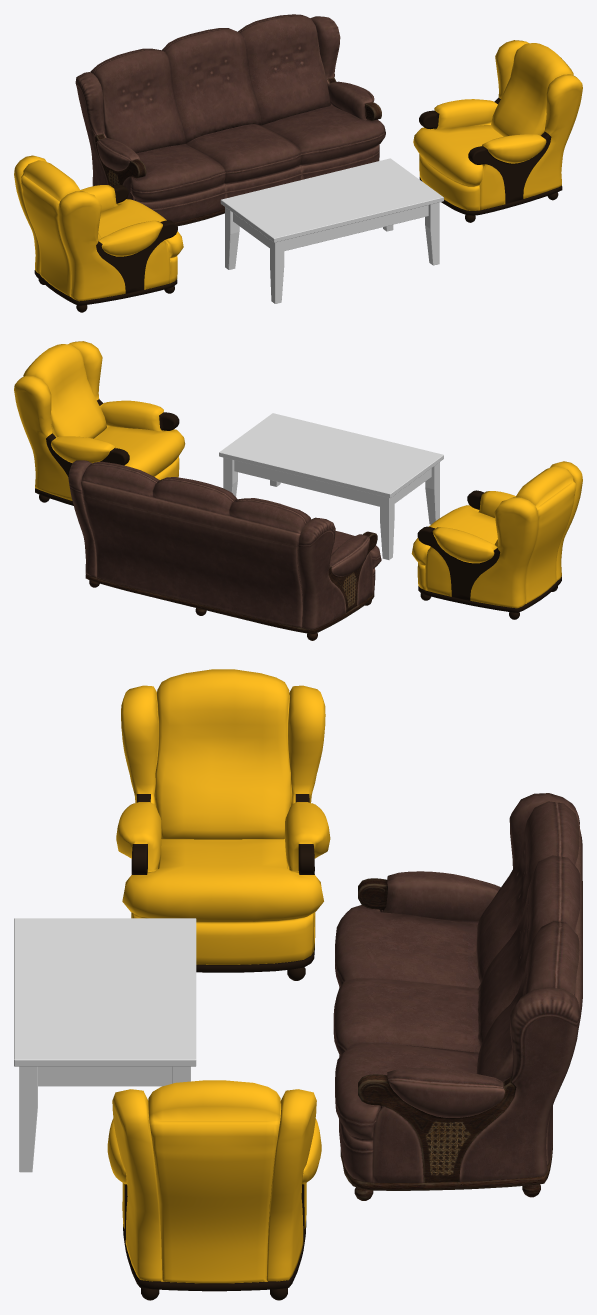
File: classic_ set.FBX
3 views of the same model, one above another, from view 1: azimuth 30°, elevation 25°; view 2: azimuth 150°, elevation 25°; view 3: azimuth 270°, elevation 25° (orthographic). The views are drawn at different scales.
Visible parts, largest first — view 1: sofa_classic_ch_models_, armchair_classic_ch_models_armchair_classic_ch_models_01, armchair_classic_ch_models_armchair_classic_ch_models, table_low; view 2: sofa_classic_ch_models_, armchair_classic_ch_models_armchair_classic_ch_models, armchair_classic_ch_models_armchair_classic_ch_models_01, table_low; view 3: sofa_classic_ch_models_, armchair_classic_ch_models_armchair_classic_ch_models, armchair_classic_ch_models_armchair_classic_ch_models_01, table_low.
Boxes of the visible parts, x1,y1,x2,y2 form: sofa_classic_ch_models_: [75, 14, 385, 226]; armchair_classic_ch_models_armchair_classic_ch_models_01: [413, 40, 582, 222]; armchair_classic_ch_models_armchair_classic_ch_models: [14, 155, 183, 312]; table_low: [220, 158, 443, 303]; sofa_classic_ch_models_: [68, 460, 381, 640]; armchair_classic_ch_models_armchair_classic_ch_models: [411, 461, 582, 619]; armchair_classic_ch_models_armchair_classic_ch_models_01: [14, 341, 185, 505]; table_low: [219, 413, 443, 559]; sofa_classic_ch_models_: [333, 793, 582, 1200]; armchair_classic_ch_models_armchair_classic_ch_models: [116, 669, 330, 980]; armchair_classic_ch_models_armchair_classic_ch_models_01: [107, 1080, 321, 1300]; table_low: [14, 918, 196, 1172].
Size of the model in its own units: 387 by 215 by 96.22.
